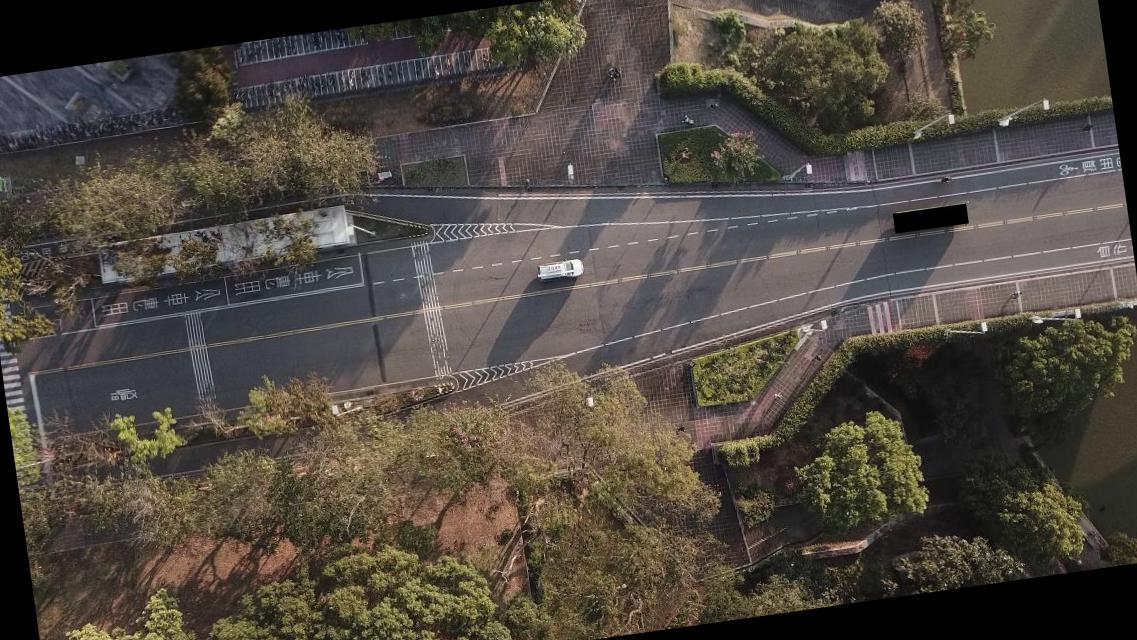vehicle: (535, 259, 584, 282)
